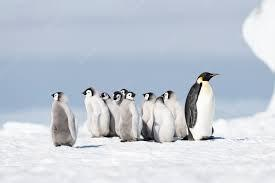emporer: (172, 67, 233, 144)
